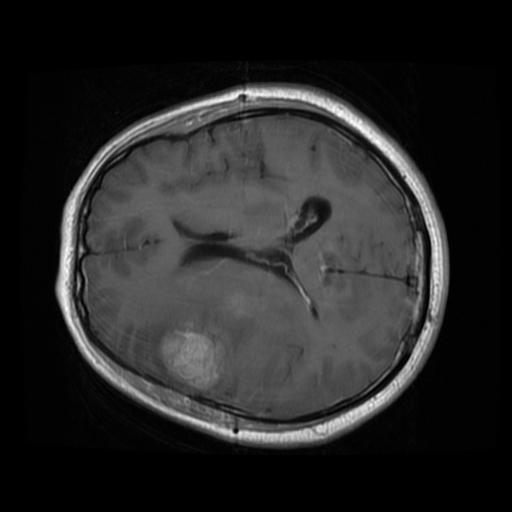meningioma: (158, 327, 223, 391)
